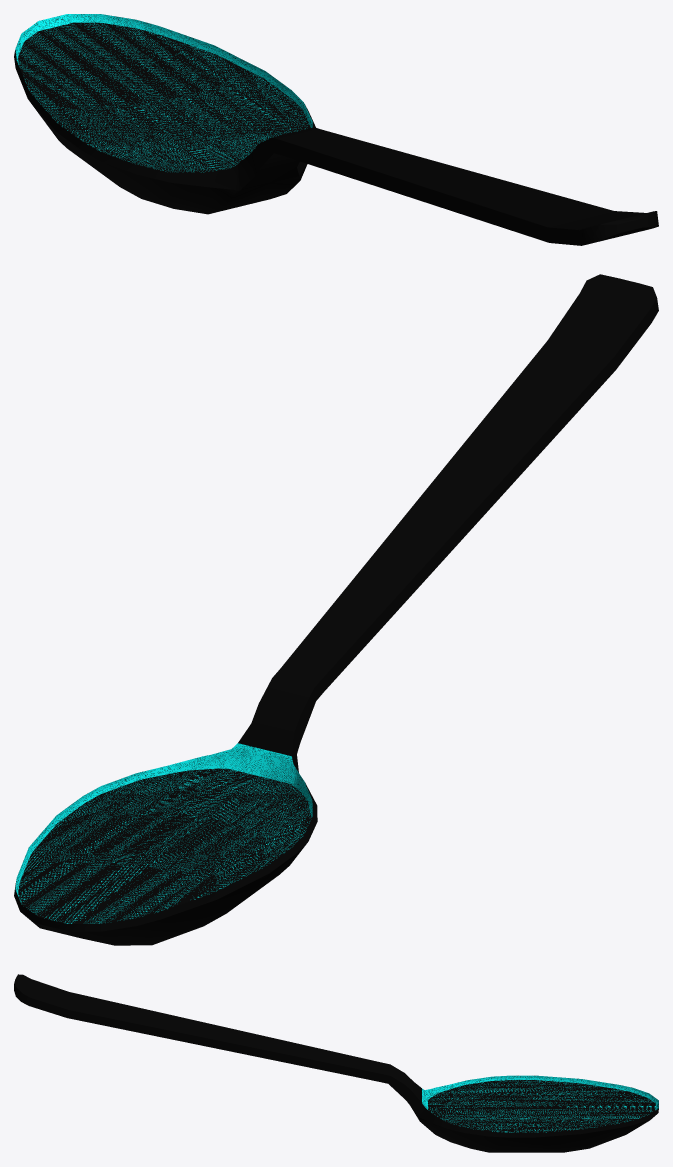
The model's file is spoon_07_origin_gt_3.dae.
3 views of the same model, one above another, from view 1: azimuth 30°, elevation 25°; view 2: azimuth 150°, elevation 25°; view 3: azimuth 270°, elevation 25° (orthographic). The views are drawn at different scales.
Parts seen in each view (by area): view 1: スプーン_ (×4); view 2: スプーン_ (×4); view 3: スプーン_ (×4).
Part boxes in pixels (box(x1,y1,x2,y2)): スプーン_ (×4): box(14, 14, 658, 245); スプーン_ (×4): box(14, 274, 658, 945); スプーン_ (×4): box(14, 974, 658, 1152).
Size of the model in its own units: 1.17 by 5.47 by 1.53.
